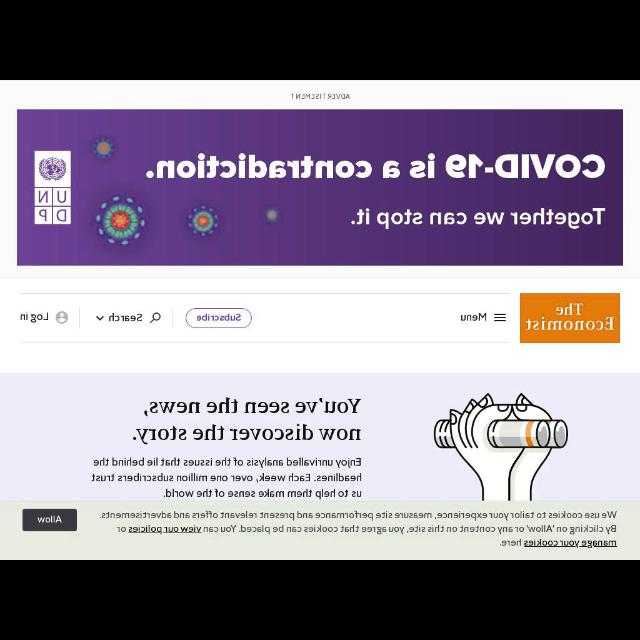icon: (148, 311, 164, 327), (54, 310, 70, 324), (491, 312, 509, 324), (94, 314, 104, 322)
iframe: (1, 500, 638, 560)
image: (19, 110, 624, 264), (432, 390, 570, 500), (520, 294, 620, 342)
spinner: (92, 308, 166, 328)
text: (97, 509, 618, 546), (128, 396, 364, 448), (90, 456, 364, 499), (291, 92, 354, 101), (197, 312, 241, 324), (18, 310, 50, 326), (36, 512, 64, 526), (110, 312, 142, 324), (460, 312, 488, 324)
textbutton: (184, 308, 252, 328), (23, 510, 76, 532)
toolbar: (1, 279, 639, 373)
